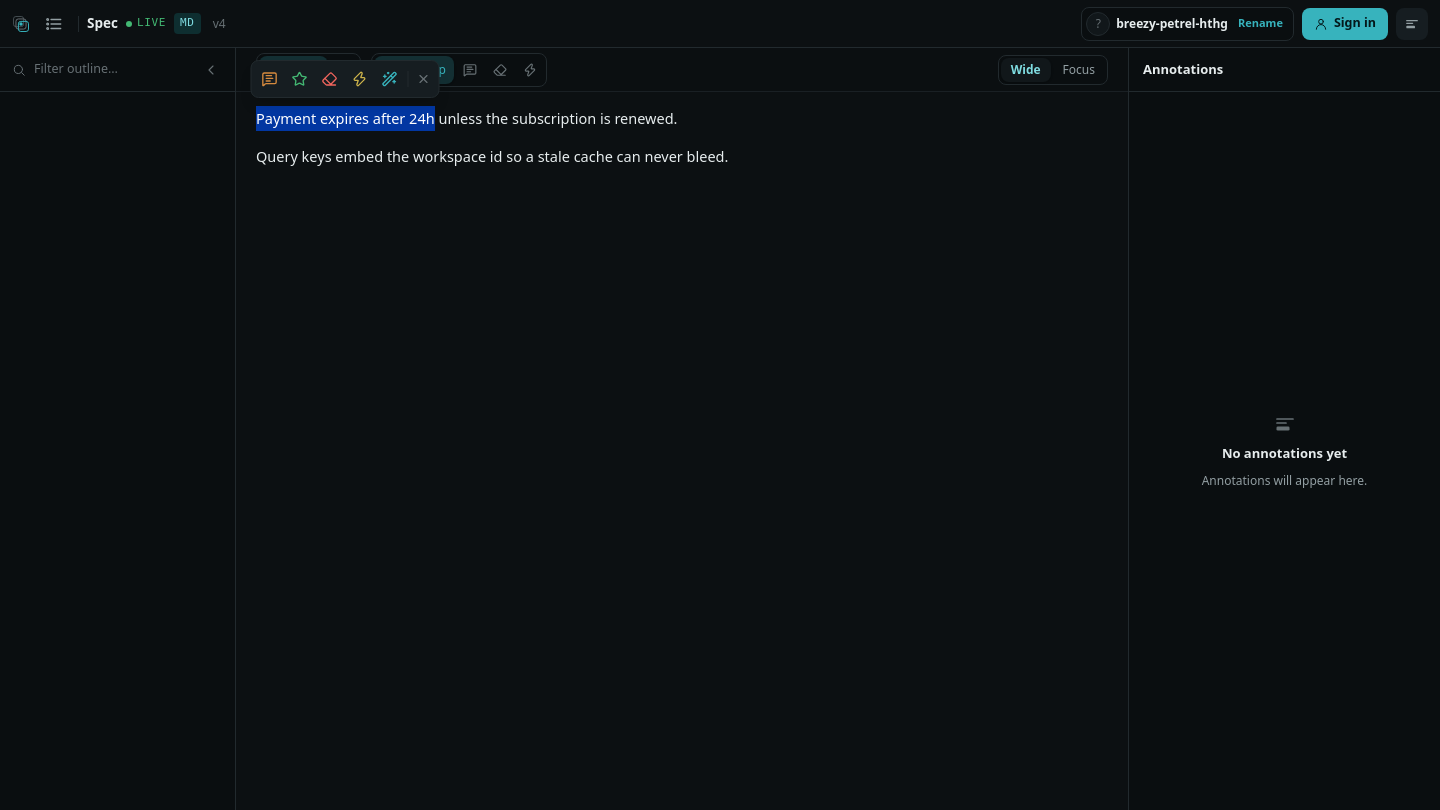
Guest commenting S-007 › AS-017: the composer shows NO name field and NO email field; the session name rides up on send
Check: the element with test id "markdown-view" is shown, box 256,108 -> 728,166
Check: the element with test id "annotations-rail" is shown, box 1129,48 -> 1439,489
Click the button with test id "popover-comment" at (270, 79), box 256,65 -> 284,93
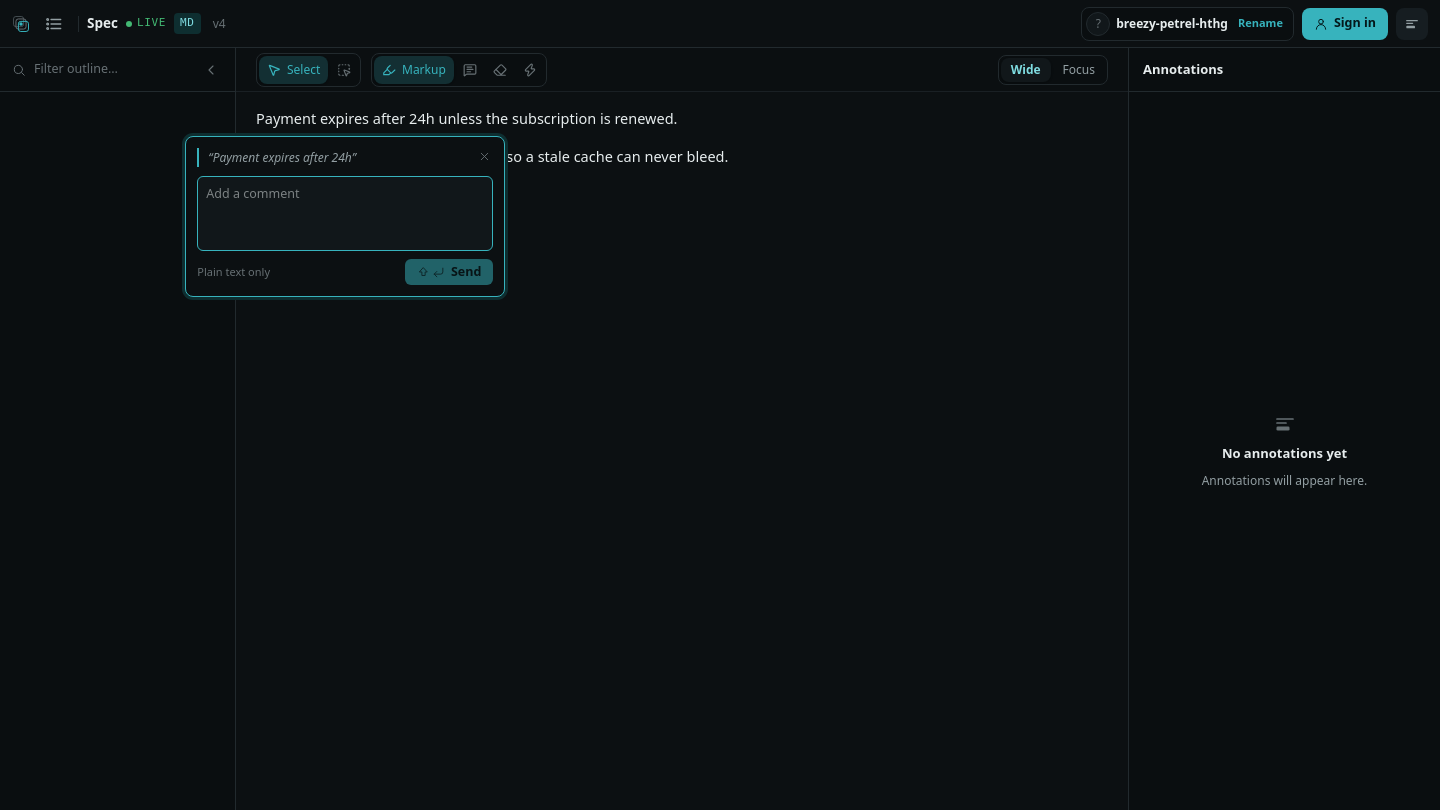
// Send is enabled on a body alone (the session name is always present).
Type "Why 24h?" into the text box with test id "composer-input" at (345, 214), box 197,176 -> 493,251
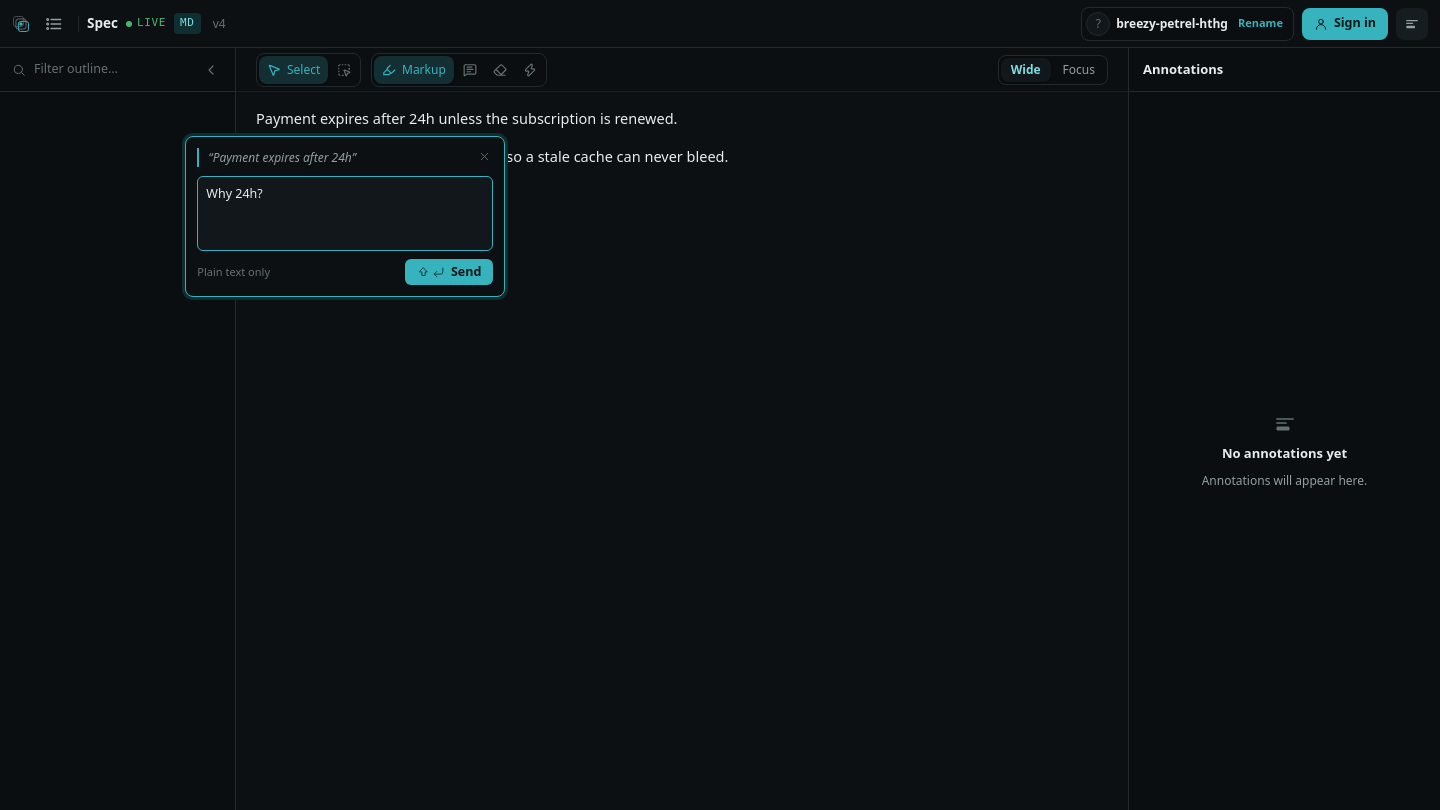
Check: the button with test id "composer-send" is enabled
Click the button with test id "composer-send" at (449, 272), box 405,259 -> 493,285
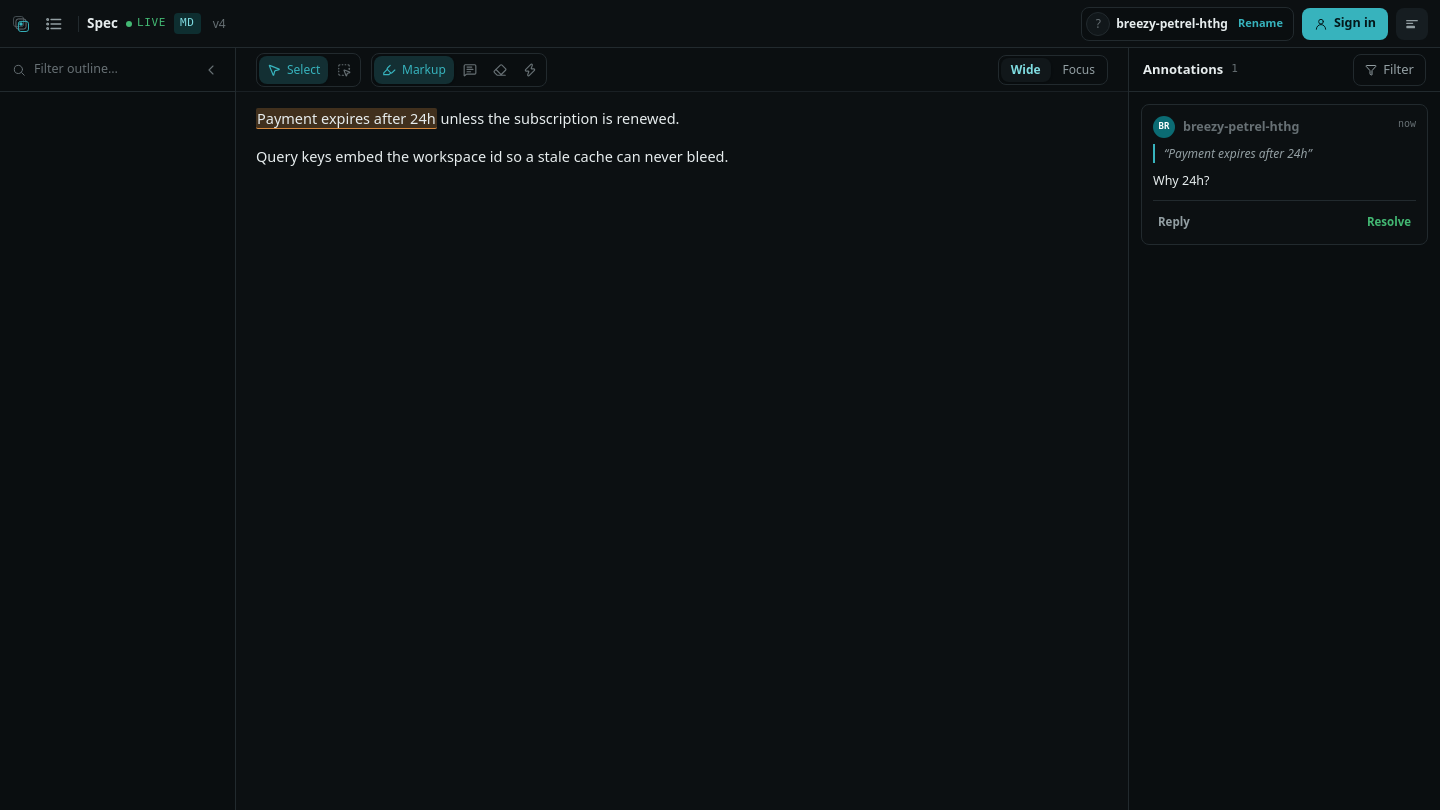
Check: the text "Why 24h?" is shown, box 1153,172 -> 1209,189
